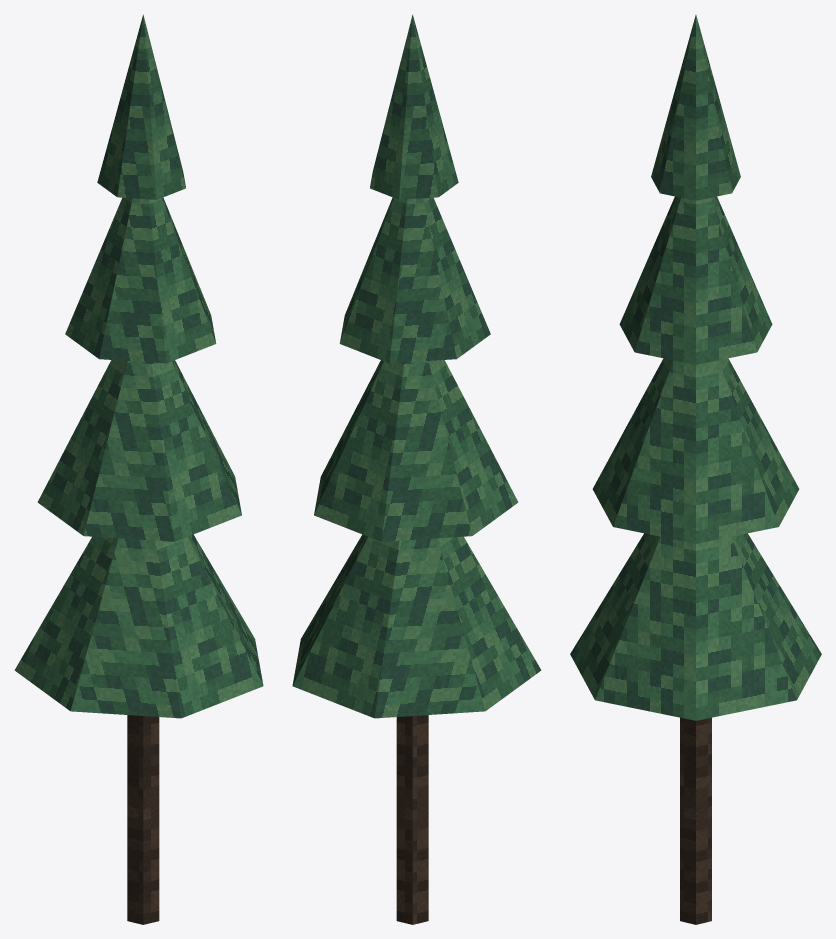
Rendered from ENV_C_TreeCypress.fbx.
The picture shows the model from 3 angles, left to right: view 1: azimuth 30°, elevation 25°; view 2: azimuth 150°, elevation 25°; view 3: azimuth 270°, elevation 25°; orthographic projection.
Visible parts, largest first — view 1: ENV_C_TreeCypress; view 2: ENV_C_TreeCypress; view 3: ENV_C_TreeCypress.
Boxes of the visible parts, x1,y1,x2,y2 form: ENV_C_TreeCypress: (14,14,263,924); ENV_C_TreeCypress: (292,14,541,924); ENV_C_TreeCypress: (570,15,821,924).
Size of the model in its own units: 266 by 1080 by 273.
2 materials, 2 textured.
